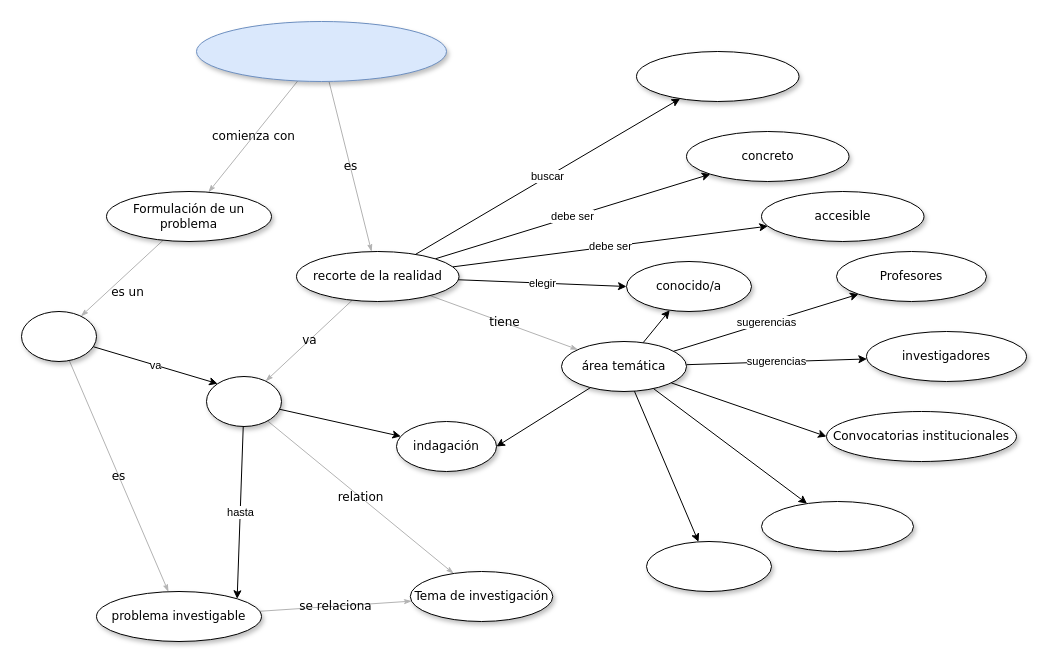
Some shapes in this 1050 by 666 pixel diagram are drawn without their labels. The centre of each missing label's shape, as x and y in pixels:
"Elección de tema de investigación" belongs at (x=322, y=52).
"experiencia personal" belongs at (x=710, y=567).
"idea inicial" belongs at (x=245, y=403).
"Literatura científica" belongs at (x=838, y=527).
"Problemática real" belongs at (x=718, y=77).
"proceso" belongs at (x=59, y=337).
